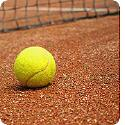tennis ball: (14, 45, 57, 90)
